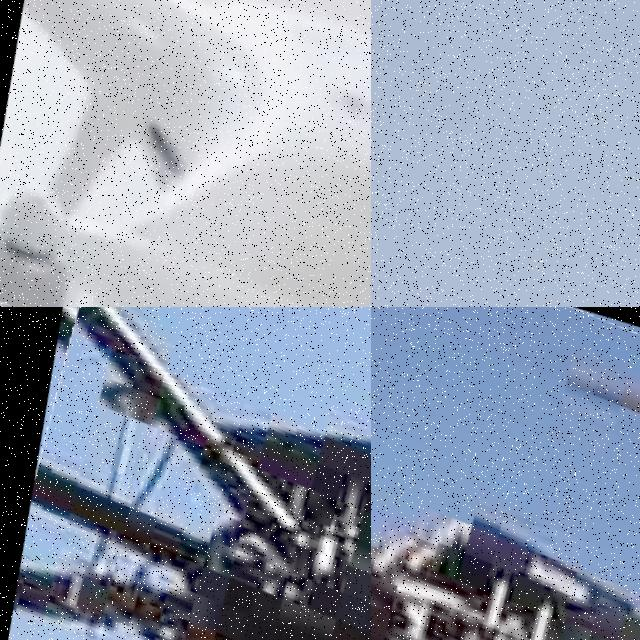0: (0, 307, 371, 640), (371, 307, 640, 640)
drone: (0, 0, 371, 307)
